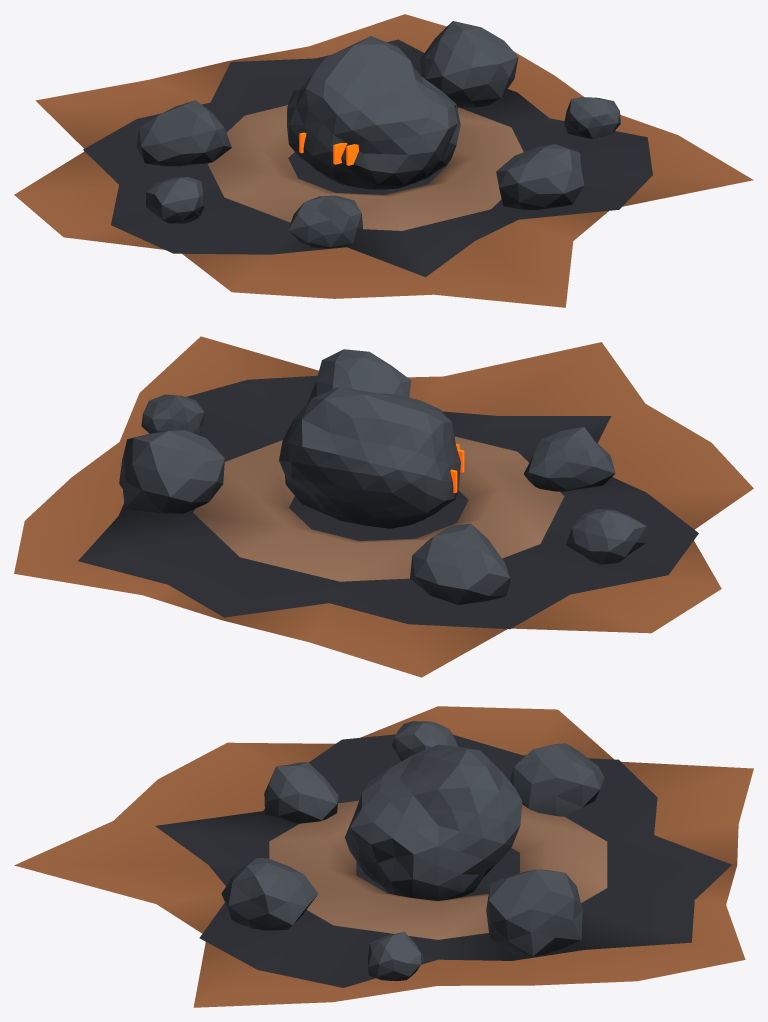
Rendered from poi_meteorites.glb.
3 views of the same model, one above another, from view 1: azimuth 30°, elevation 25°; view 2: azimuth 150°, elevation 25°; view 3: azimuth 270°, elevation 25° (orthographic). The views are drawn at different scales.
Parts seen in each view (by area): view 1: Base, Lights; view 2: Base; view 3: Base.
Boxes of the visible parts, x1=… form: Base: x1=14, y1=14, x2=753, y2=307; Lights: x1=299, y1=132, x2=358, y2=165; Base: x1=14, y1=336, x2=753, y2=677; Base: x1=14, y1=706, x2=753, y2=1007.
Bounding box in the file's own units: 9.7 × 1.95 × 10.06.
